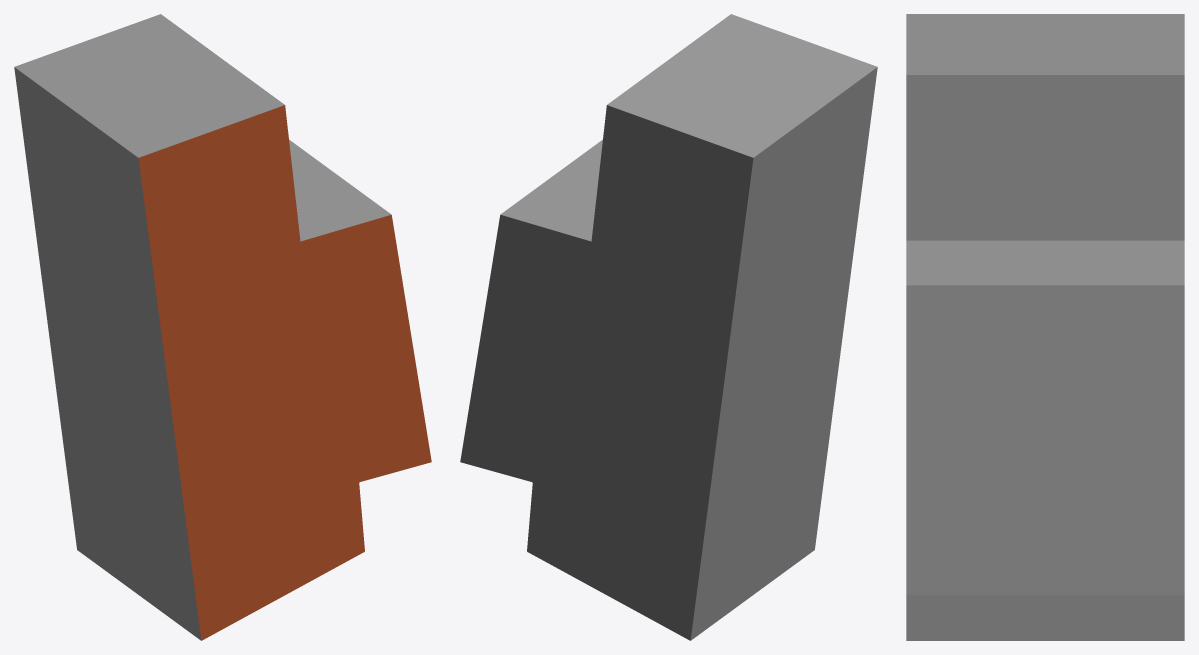
The model's file is construction_6004_assumed_A_Casa_h6m.obj.
The picture shows the model from 3 angles, left to right: view 1: azimuth 30°, elevation 25°; view 2: azimuth 150°, elevation 25°; view 3: azimuth 270°, elevation 25°; orthographic projection. The views are drawn at different scales.
Visible parts, largest first — view 1: construction_6004_assumed_A_Casa; view 2: construction_6004_assumed_A_Casa; view 3: construction_6004_assumed_A_Casa.
Part boxes in pixels (x1,y1,x2,y2): construction_6004_assumed_A_Casa: [14, 14, 431, 640]; construction_6004_assumed_A_Casa: [460, 14, 877, 640]; construction_6004_assumed_A_Casa: [906, 14, 1184, 640].
Size of the model in its own units: 8.17 by 13.73 by 6.
